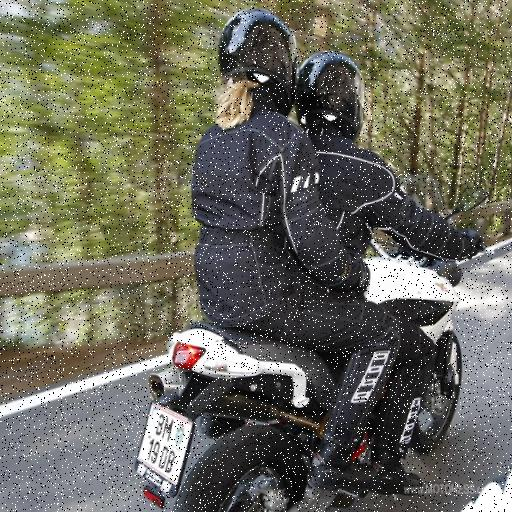Helmet: (219, 8, 297, 111), (297, 52, 363, 139)
Motor: (136, 323, 342, 511)
